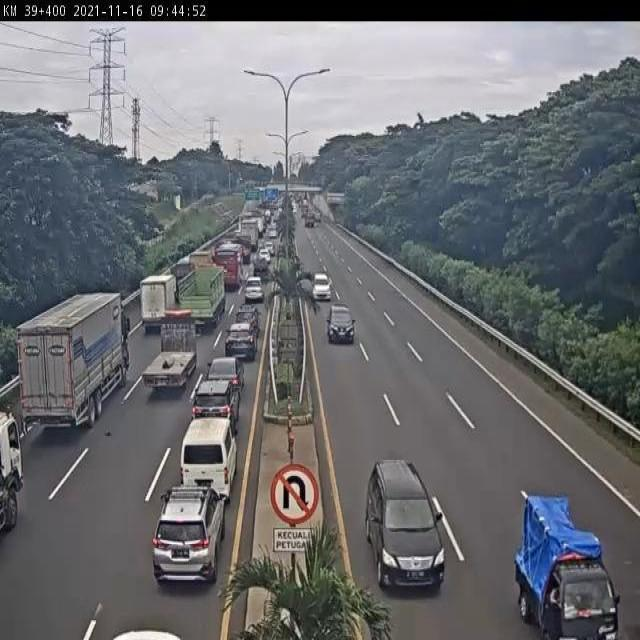Bus: (214, 243, 242, 289)
Car: (364, 458, 448, 589), (151, 482, 227, 583), (203, 355, 247, 386), (224, 322, 258, 362), (326, 303, 356, 345), (312, 272, 332, 300), (244, 279, 264, 304), (259, 248, 271, 264), (264, 241, 275, 256), (305, 216, 315, 227)
Truck: (16, 293, 126, 431), (514, 496, 618, 638), (143, 319, 197, 392), (178, 266, 226, 331), (0, 410, 24, 534), (140, 274, 178, 334), (240, 220, 258, 251), (639, 169, 640, 172)
Van: (180, 416, 238, 502)
